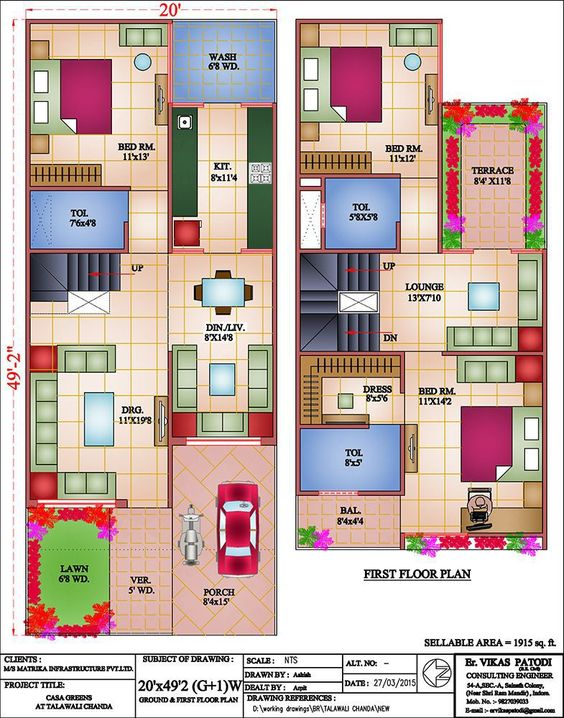room: (399, 351, 546, 539), (26, 20, 172, 192), (294, 17, 444, 176), (24, 349, 173, 508), (168, 102, 277, 253)
